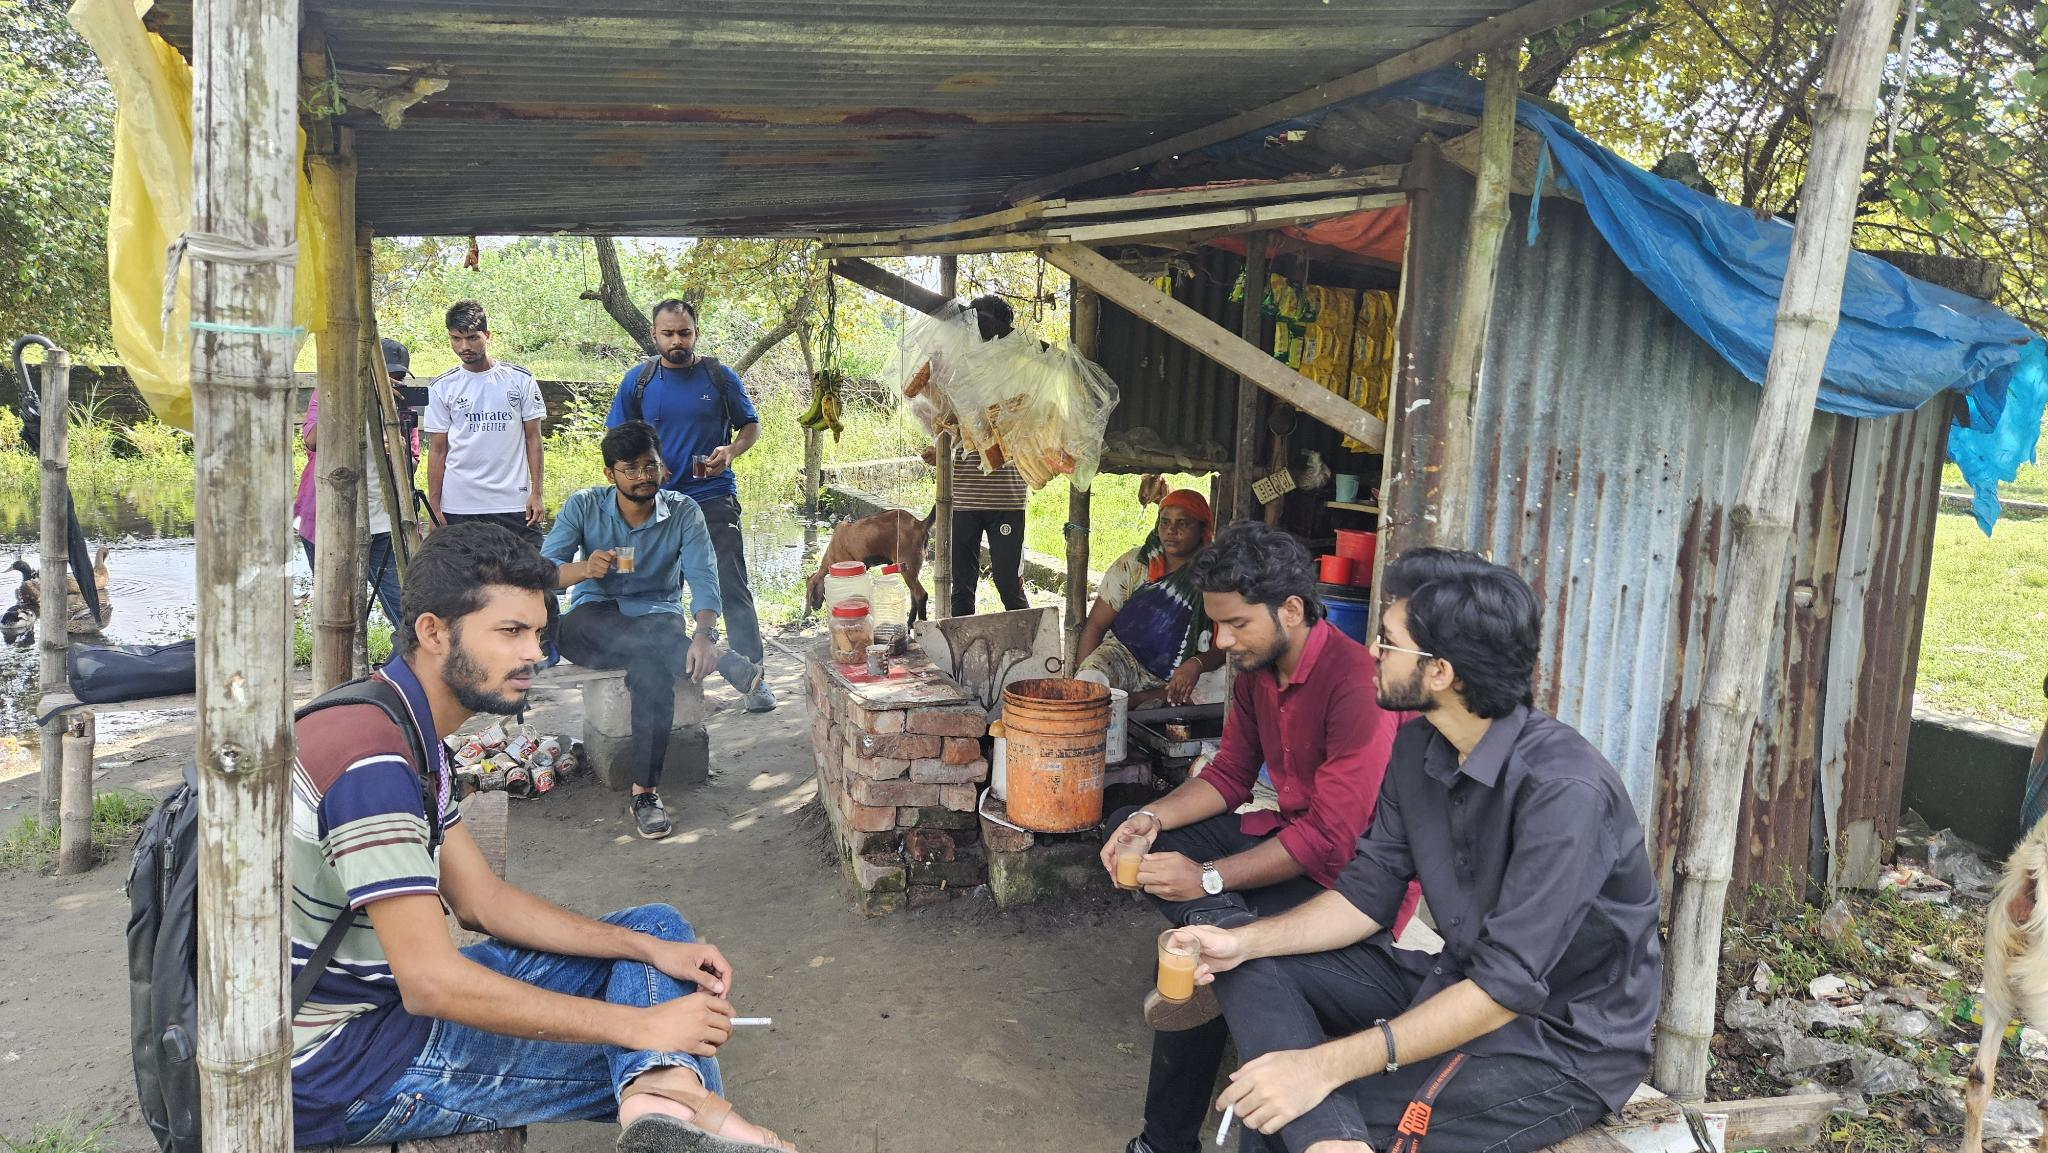cigarette: (724, 1010, 776, 1032), (1214, 1101, 1236, 1149)
nonSmoker: (1099, 522, 1373, 924), (540, 423, 761, 841), (605, 299, 776, 713), (426, 301, 547, 551), (1077, 489, 1214, 707)
smoker: (293, 524, 800, 1153), (1180, 547, 1663, 1153)
